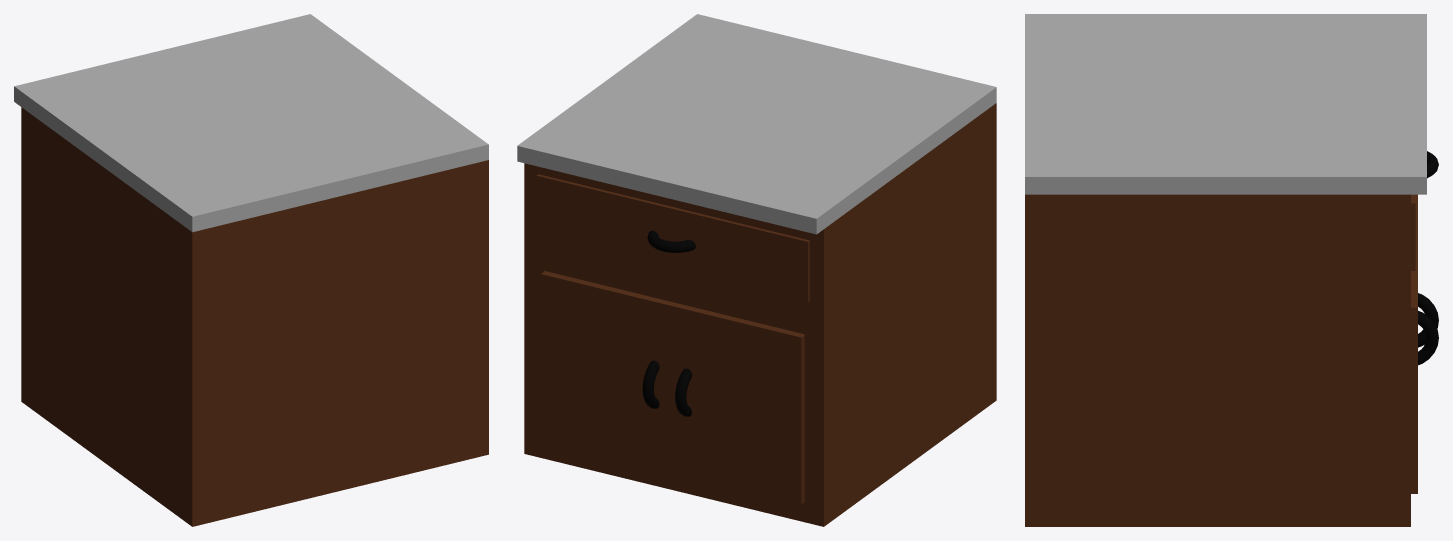
File: Cabinet.fbx
The picture shows the model from 3 angles, left to right: view 1: azimuth 30°, elevation 25°; view 2: azimuth 150°, elevation 25°; view 3: azimuth 270°, elevation 25°; orthographic projection. The views are drawn at different scales.
Visible parts, largest first — view 1: Cabinet; view 2: Cabinet, CabinetDoorLeft, CabinetDoorRight; view 3: Cabinet, CabinetDoorRight, CabinetDoorLeft.
Boxes of the visible parts, x1,y1,x2,y2 form: Cabinet: (14, 14, 488, 526); Cabinet: (517, 14, 996, 526); CabinetDoorLeft: (671, 303, 804, 504); CabinetDoorRight: (541, 271, 674, 472); Cabinet: (1025, 14, 1438, 526); CabinetDoorRight: (1411, 236, 1438, 493); CabinetDoorLeft: (1415, 194, 1438, 347).
Size of the model in its own units: 0.5 by 0.5362 by 0.5.
